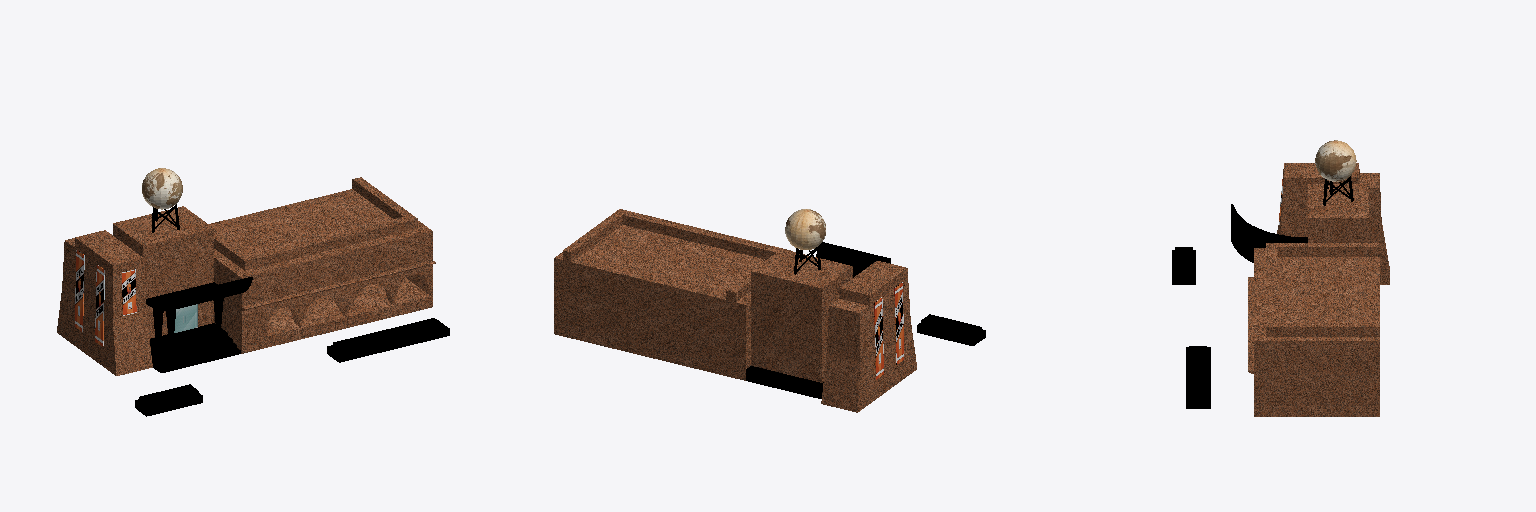
The picture shows the model from 3 angles: view 1: azimuth 30°, elevation 25°; view 2: azimuth 150°, elevation 25°; view 3: azimuth 270°, elevation 25°; orthographic projection.
Visible parts, largest first — view 1: polySurface4 pCube13, polySurface3; view 2: polySurface4 pCube13, polySurface3; view 3: polySurface4 pCube13, polySurface3.
Part boxes in pixels (left/top/right/bottom): polySurface4 pCube13: left=57, top=168, right=449, bottom=375; polySurface3: left=135, top=384, right=202, bottom=416; polySurface4 pCube13: left=554, top=209, right=916, bottom=412; polySurface3: left=917, top=314, right=985, bottom=345; polySurface4 pCube13: left=1186, top=140, right=1389, bottom=416; polySurface3: left=1172, top=247, right=1195, bottom=284.
Size of the model in its own units: 45 by 21.43 by 26.09.
8 materials, 4 textured.